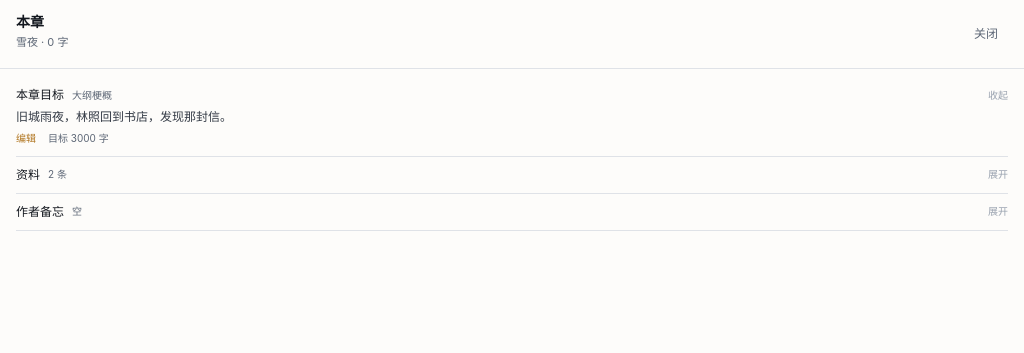
it: 右栏「本章」 › 默认展开本章目标，可编辑保存并回到摘要
The width and height of the screenshot is (1024, 353).
Expected: the text "旧城雨夜，林照回到书店，发现那封信。" is shown, [16,109,232,124]
Click the button "编辑".
click(26, 138)  # box [16,130,36,146]
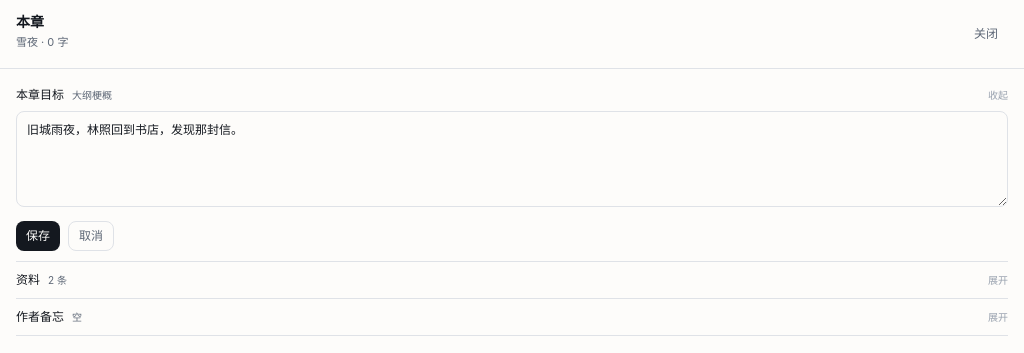
Replace the text in the text box named "本章目标" with "新目标：先写雨夜归店。" at (512, 159), box [16,111,1008,207]
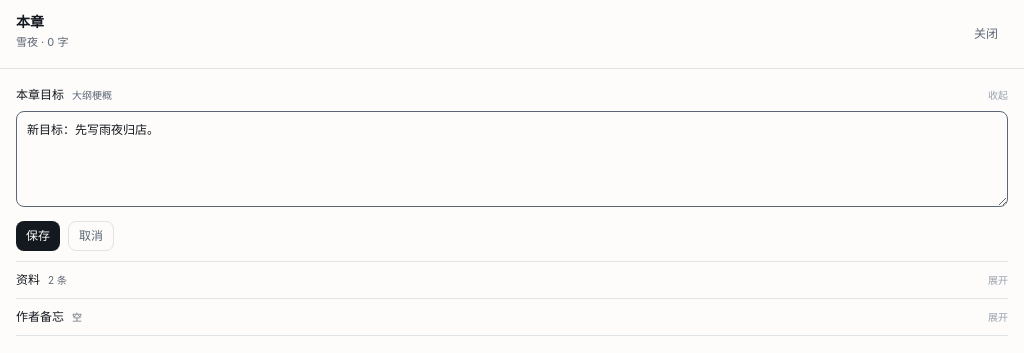
Click the button "保存".
click(38, 236)  # box [16,221,60,251]
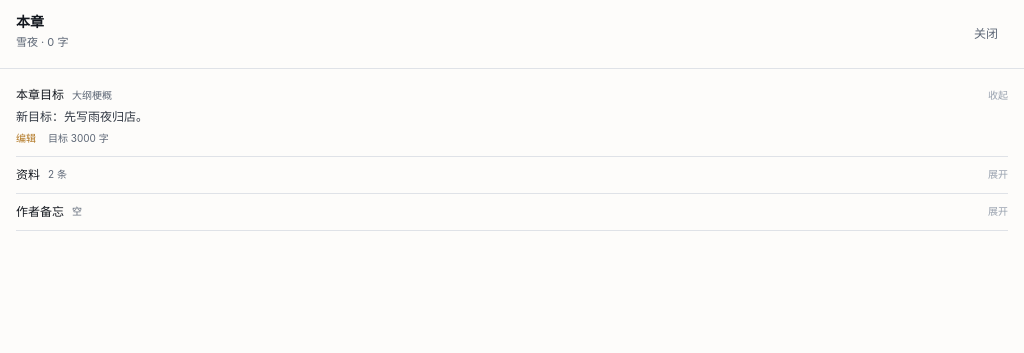
Expected: the text "新目标：先写雨夜归店。" is shown, [16,109,148,124]
